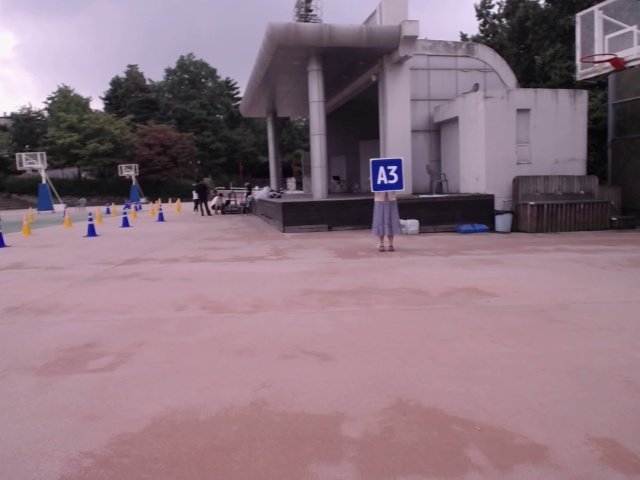delivery_a3: (370, 158, 404, 192)
